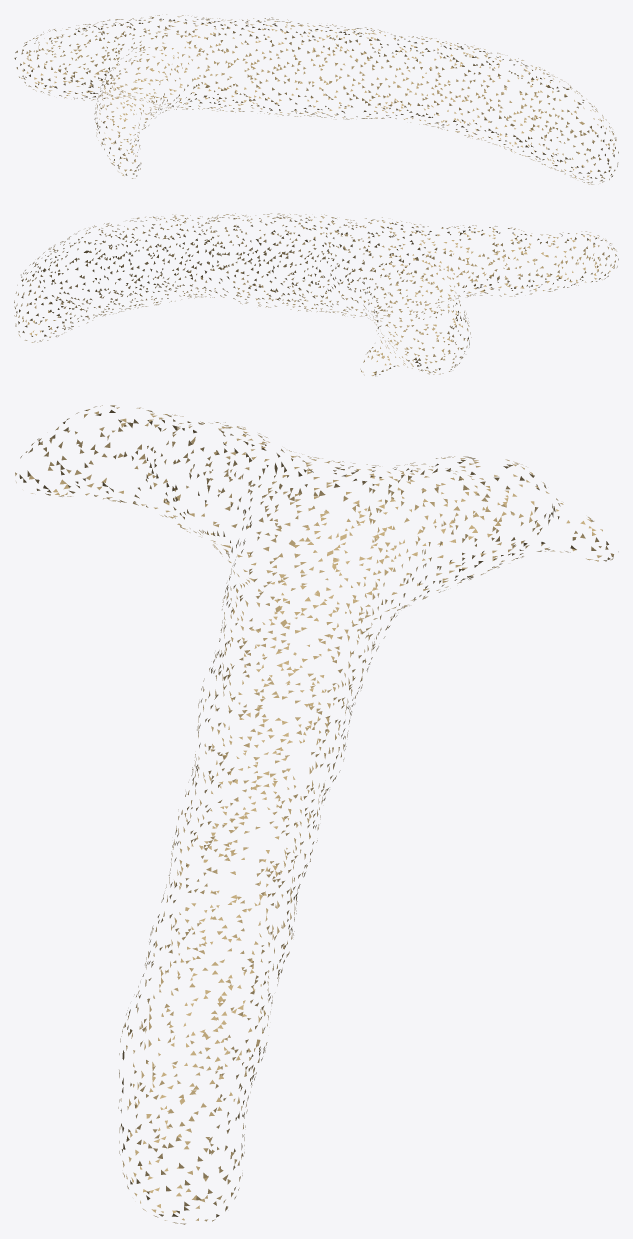
The model's file is morph_007.glb.
3 renders of one model, top to bottom at view 1: azimuth 30°, elevation 25°; view 2: azimuth 150°, elevation 25°; view 3: azimuth 270°, elevation 25°, orthographic. The views are drawn at different scales.
Size of the model in its own units: 129 by 51.94 by 70.4.
